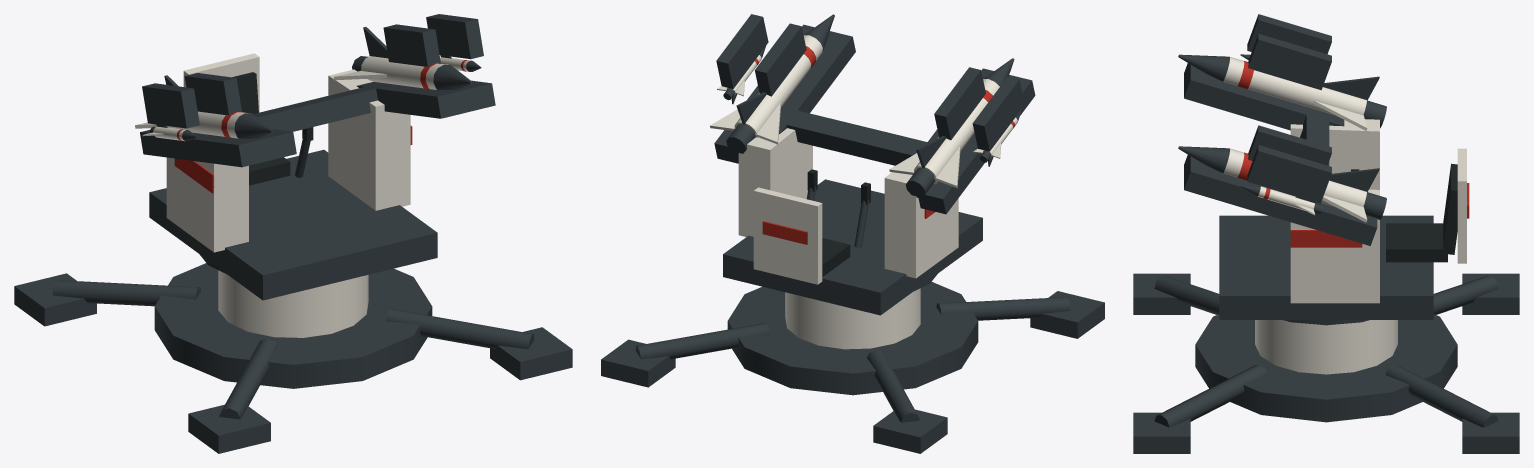
The picture shows the model from 3 angles, left to right: view 1: azimuth 30°, elevation 25°; view 2: azimuth 150°, elevation 25°; view 3: azimuth 270°, elevation 25°; orthographic projection. The views are drawn at different scales.
Visible parts, largest first — view 1: aa-missile-manned-fleet-machine, turret-fleet-machine, elevation-fleet-machine, turret-fleet-armor, aa-missile-manned-fleet-armor, store-right-large-painted, store-left-large-painted, turret-fleet-rubber, turret-fleet-red, store-left-small-painted; view 2: aa-missile-manned-fleet-machine, elevation-fleet-machine, turret-fleet-armor, turret-fleet-machine, aa-missile-manned-fleet-armor, store-right-large-painted, store-left-large-painted, turret-fleet-rubber, turret-fleet-red, store-left-small-painted, store-right-small-painted; view 3: aa-missile-manned-fleet-machine, elevation-fleet-machine, turret-fleet-machine, turret-fleet-armor, aa-missile-manned-fleet-armor, store-left-large-painted, store-right-large-painted, turret-fleet-rubber, turret-fleet-red, store-right-small-painted.
Part boxes in pixels (left/top/right/bottom): aa-missile-manned-fleet-machine: left=14, top=255, right=572, bottom=453; turret-fleet-machine: left=149, top=135, right=437, bottom=300; elevation-fleet-machine: left=140, top=14, right=495, bottom=167; turret-fleet-armor: left=166, top=53, right=410, bottom=252; aa-missile-manned-fleet-armor: left=218, top=270, right=368, bottom=337; store-right-large-painted: left=334, top=27, right=472, bottom=90; store-left-large-painted: left=135, top=75, right=273, bottom=160; turret-fleet-rubber: left=232, top=72, right=313, bottom=185; turret-fleet-red: left=174, top=125, right=412, bottom=193; store-left-small-painted: left=142, top=124, right=197, bottom=148; aa-missile-manned-fleet-machine: left=601, top=274, right=1104, bottom=453; elevation-fleet-machine: left=714, top=14, right=1035, bottom=214; turret-fleet-armor: left=738, top=128, right=958, bottom=284; turret-fleet-machine: left=723, top=179, right=982, bottom=315; aa-missile-manned-fleet-armor: left=785, top=288, right=920, bottom=349; store-right-large-painted: left=710, top=14, right=834, bottom=153; store-left-large-painted: left=889, top=58, right=1014, bottom=197; turret-fleet-rubber: left=807, top=169, right=870, bottom=276; turret-fleet-red: left=762, top=209, right=934, bottom=244; store-left-small-painted: left=973, top=108, right=1022, bottom=166; store-right-small-painted: left=717, top=46, right=765, bottom=104; aa-missile-manned-fleet-machine: left=1133, top=273, right=1519, bottom=453; elevation-fleet-machine: left=1184, top=14, right=1377, bottom=245; turret-fleet-machine: left=1219, top=215, right=1433, bottom=319; turret-fleet-armor: left=1290, top=119, right=1466, bottom=303; aa-missile-manned-fleet-armor: left=1255, top=320, right=1397, bottom=374; store-left-large-painted: left=1178, top=54, right=1386, bottom=130; store-right-large-painted: left=1178, top=146, right=1386, bottom=222; turret-fleet-rubber: left=1351, top=163, right=1457, bottom=262; turret-fleet-red: left=1290, top=183, right=1469, bottom=247; store-right-small-painted: left=1240, top=185, right=1322, bottom=221.
Bounding box in the file's own units: 22.63 × 18.75 × 22.63.
